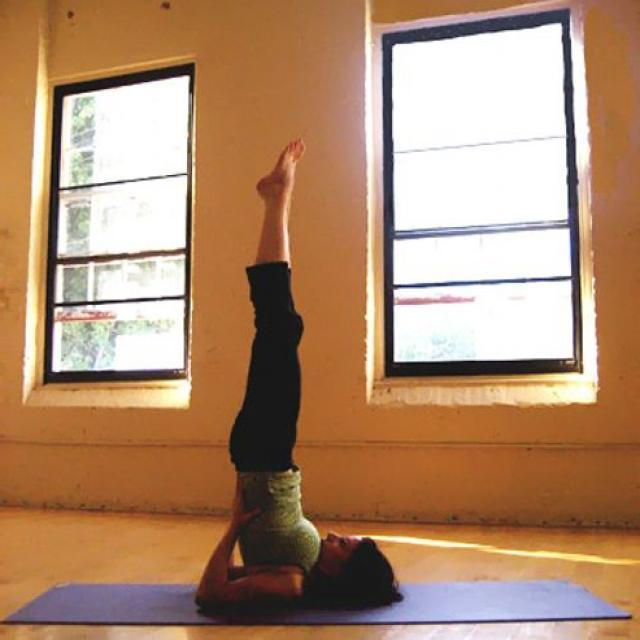yoga-pose shoulderstand: (185, 130, 388, 618)
